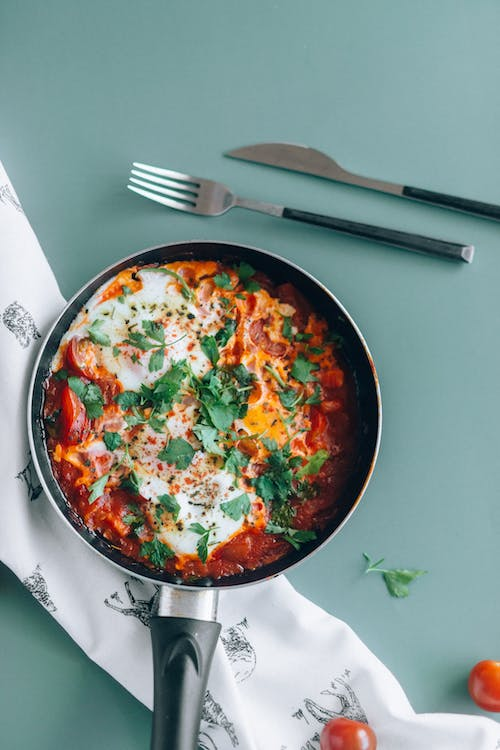knife: (219, 141, 500, 224)
